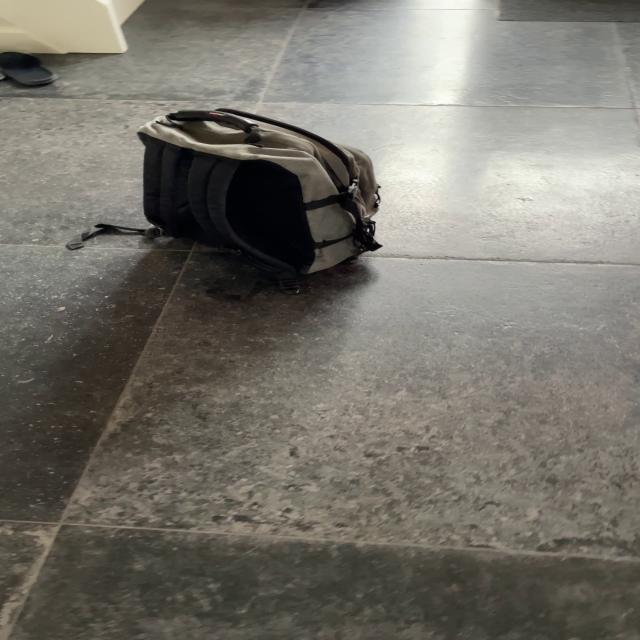backpack: (125, 102, 393, 298)
